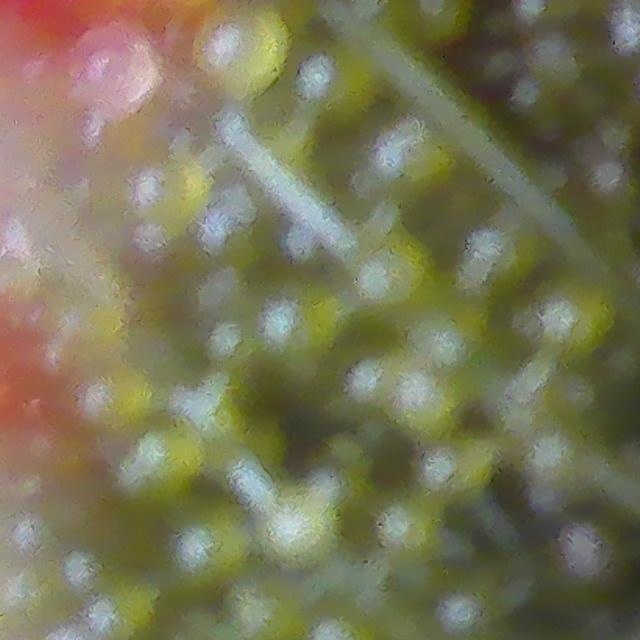SeaGrape: (189, 7, 285, 103), (67, 22, 162, 114), (545, 517, 633, 601), (164, 511, 254, 587), (133, 161, 212, 240), (122, 419, 207, 492), (383, 365, 467, 437), (356, 241, 433, 316), (265, 498, 341, 568), (76, 368, 153, 429), (541, 284, 606, 351)
